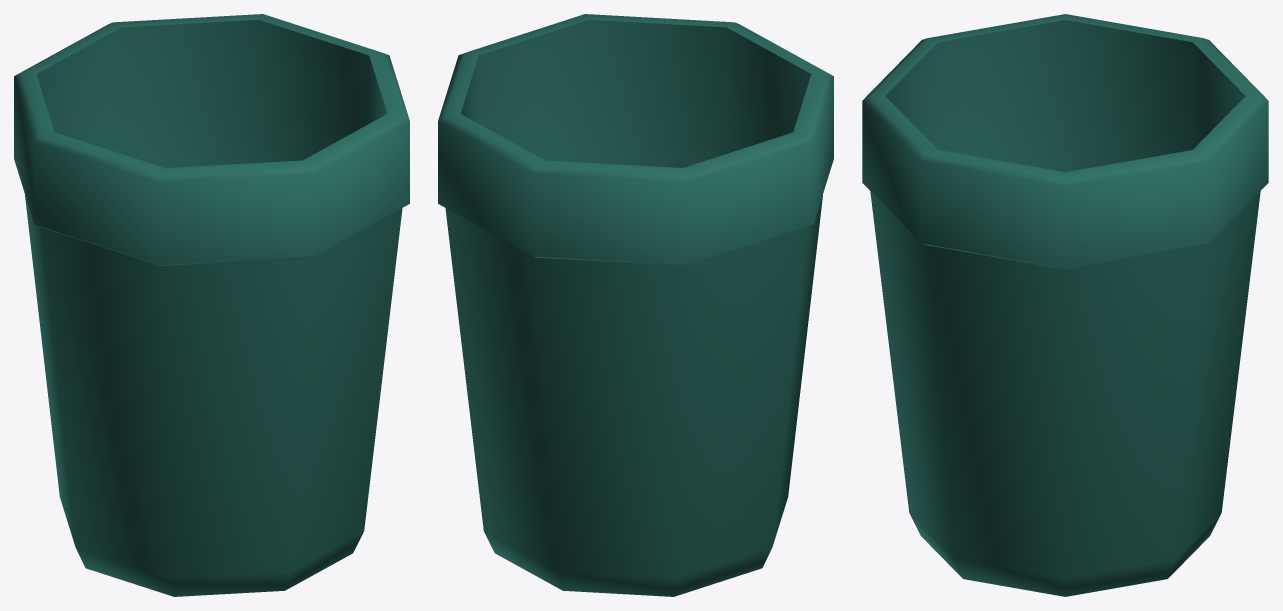
Rendered from SM_glassware_04.fbx.
3 renders of one model, left to right at view 1: azimuth 30°, elevation 25°; view 2: azimuth 150°, elevation 25°; view 3: azimuth 270°, elevation 25°, orthographic.
Parts seen in each view (by area): view 1: glassware_04; view 2: glassware_04; view 3: glassware_04.
Boxes of the visible parts, x1,y1,x2,y2 form: glassware_04: (14, 14, 409, 596); glassware_04: (438, 14, 833, 596); glassware_04: (862, 14, 1268, 596).
Bounding box in the file's own units: 11.02 × 13.44 × 11.02.
